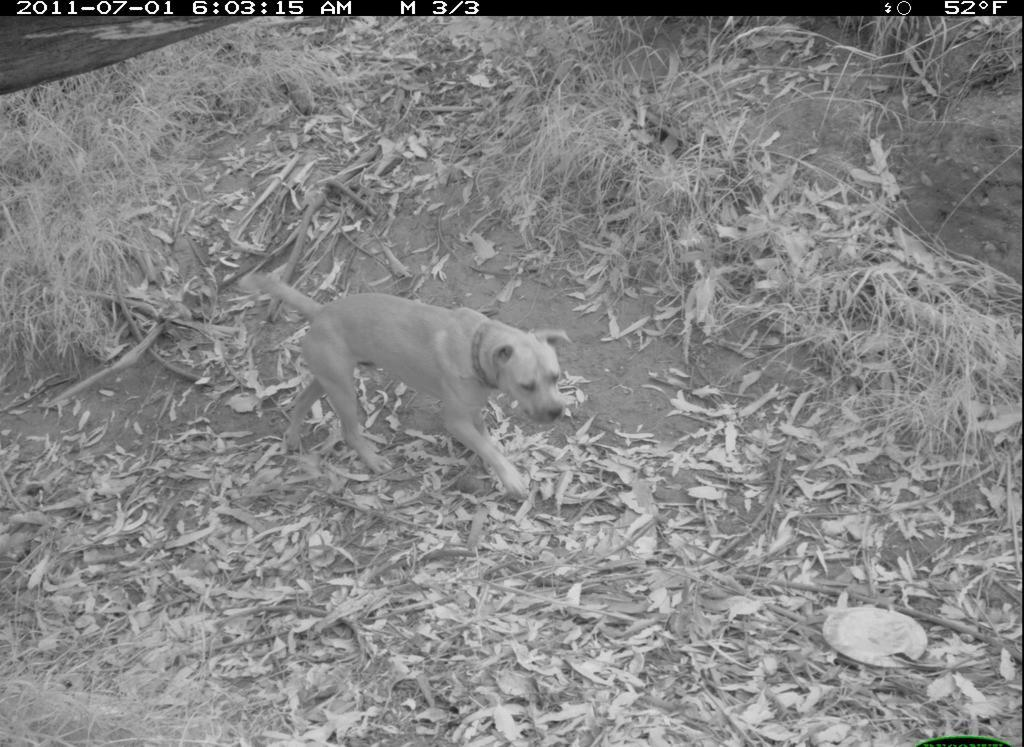dog: (251, 258, 571, 515)
